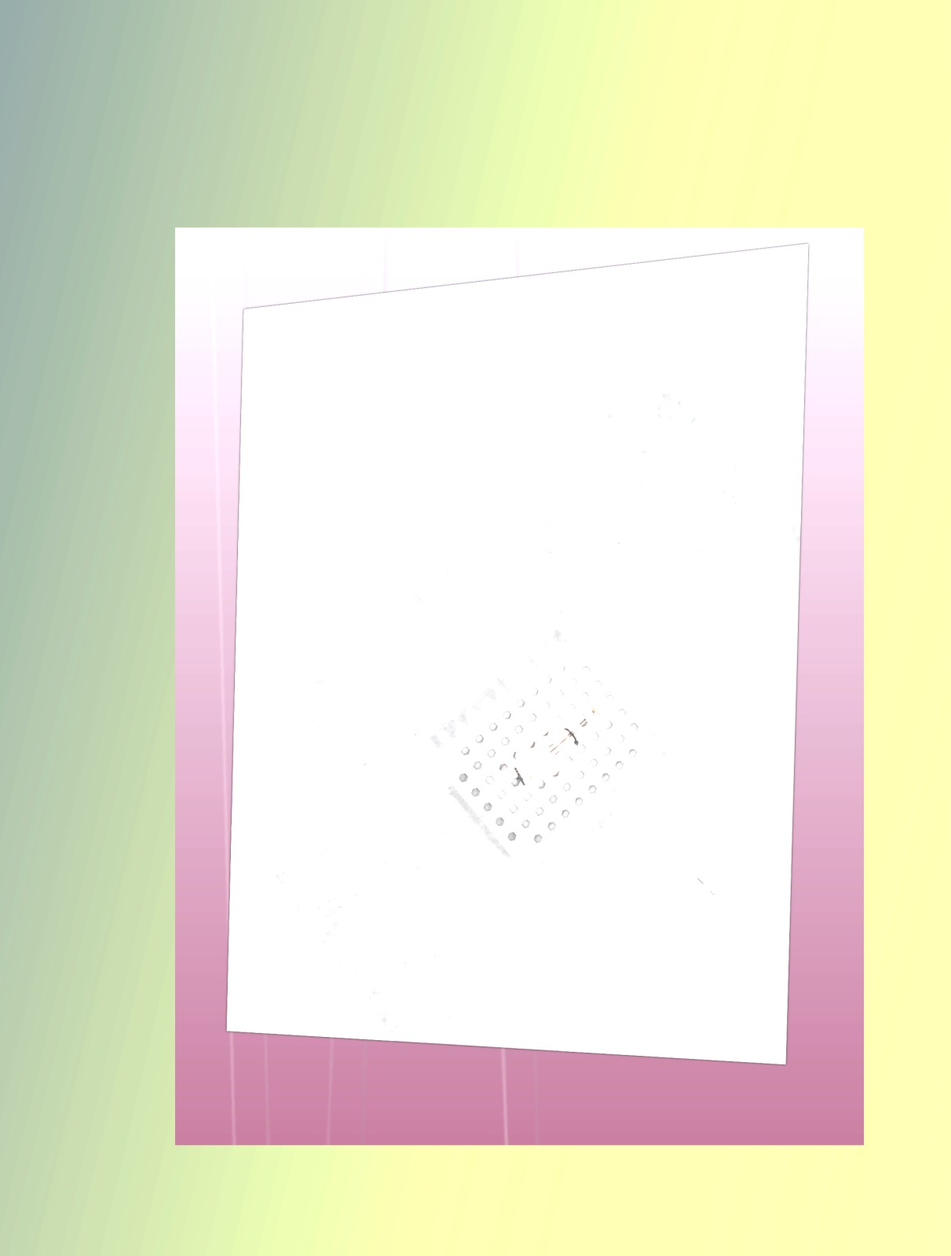basket: (429, 628, 646, 871)
